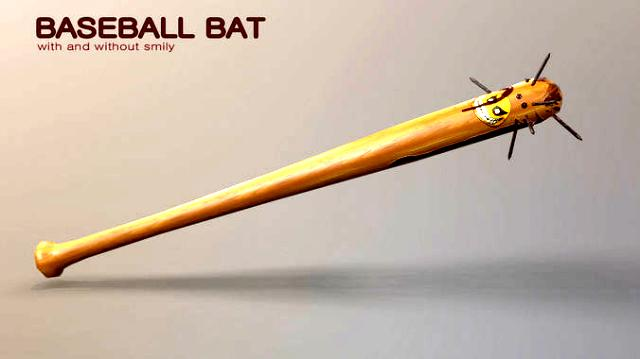baseball bat: (35, 76, 561, 276)
